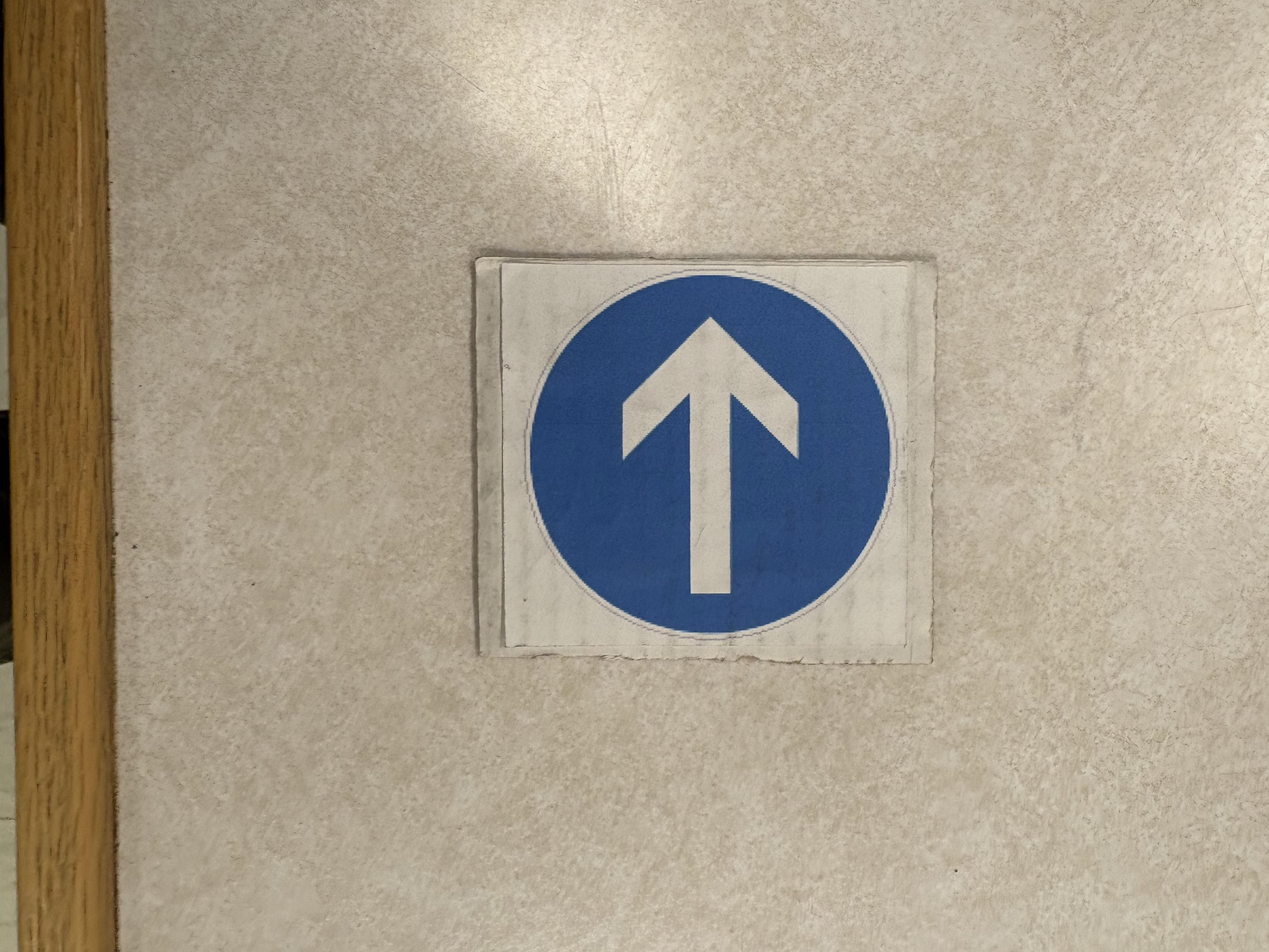Proceed Forward: (474, 256, 936, 661)
